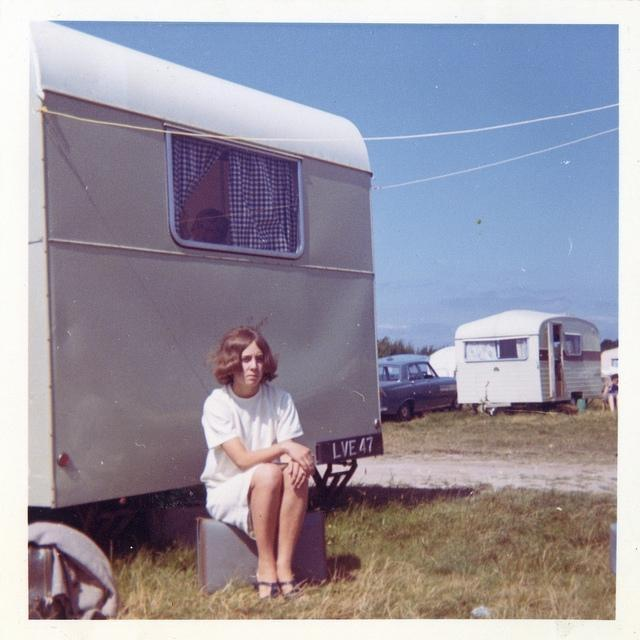car: (378, 354, 463, 419)
